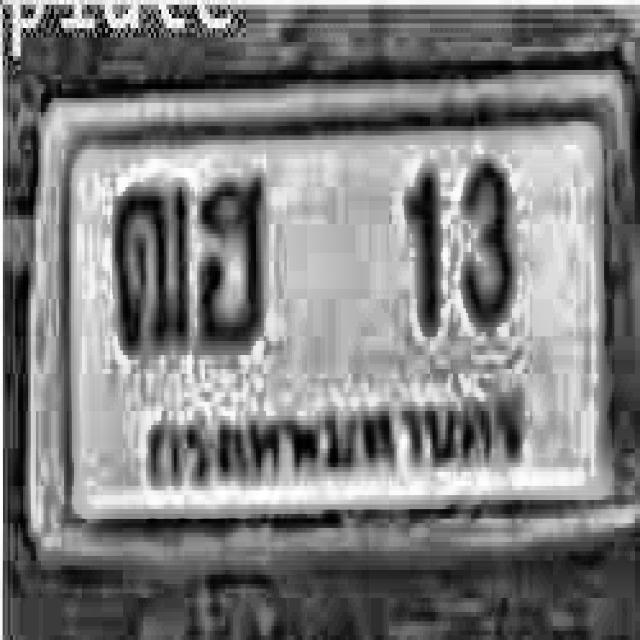license-plate: (24, 77, 640, 552)
